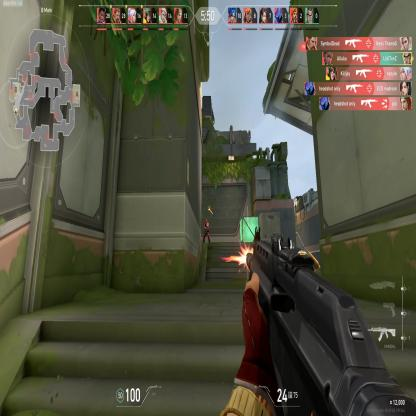enemy: (202, 218, 211, 242)
